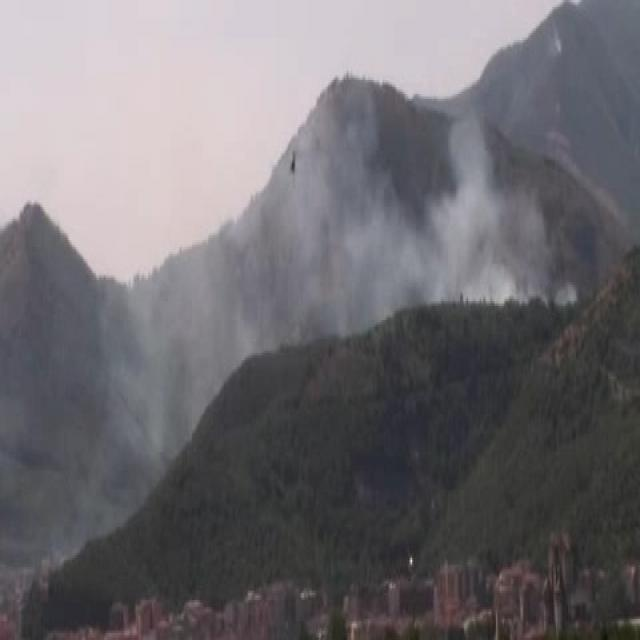smoke: (321, 99, 537, 306)
